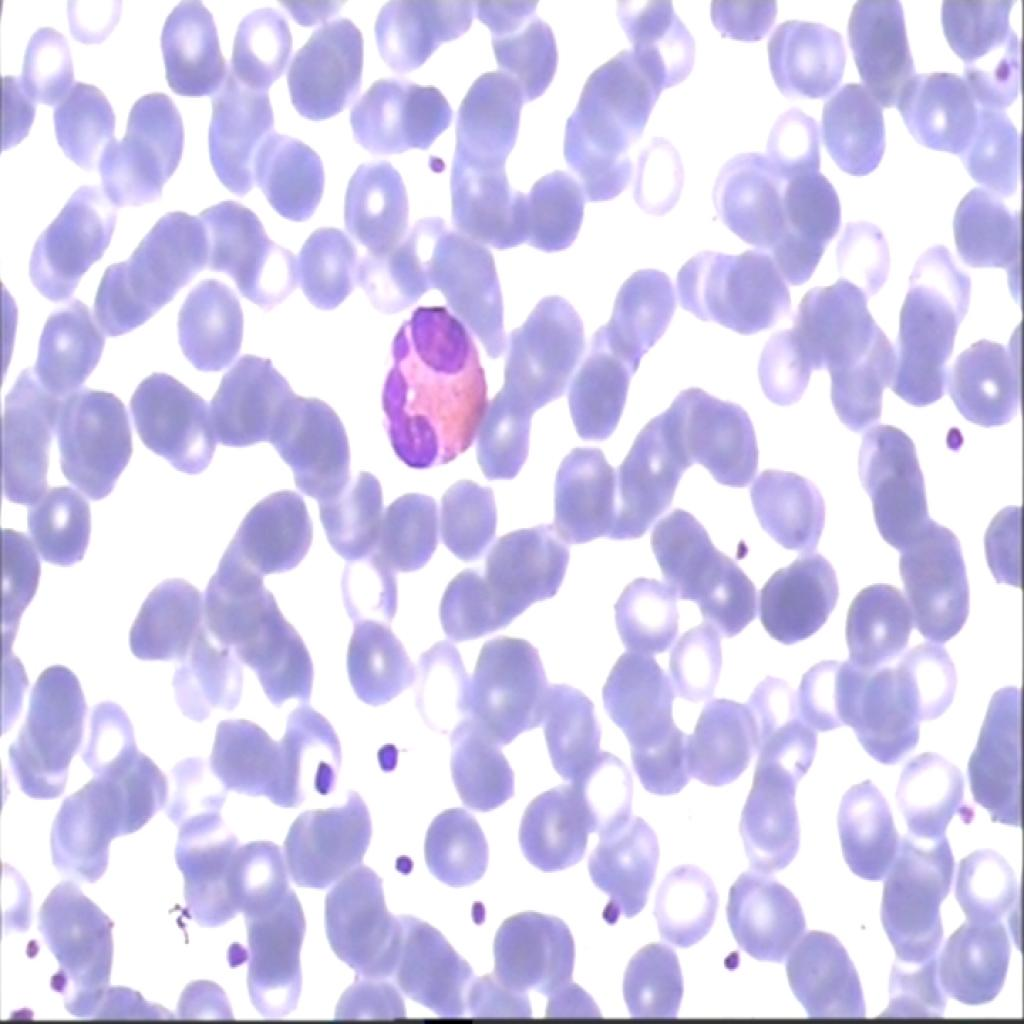Eosinofil: (374, 295, 491, 468)
Platelet: (712, 932, 754, 998), (724, 525, 771, 583), (593, 892, 636, 937), (307, 738, 339, 796), (386, 829, 418, 887), (937, 407, 967, 464), (371, 731, 404, 782), (421, 139, 459, 183), (220, 932, 252, 983), (458, 890, 492, 938), (20, 922, 45, 972), (41, 960, 70, 1001), (990, 44, 1015, 90), (10, 992, 36, 1022)
